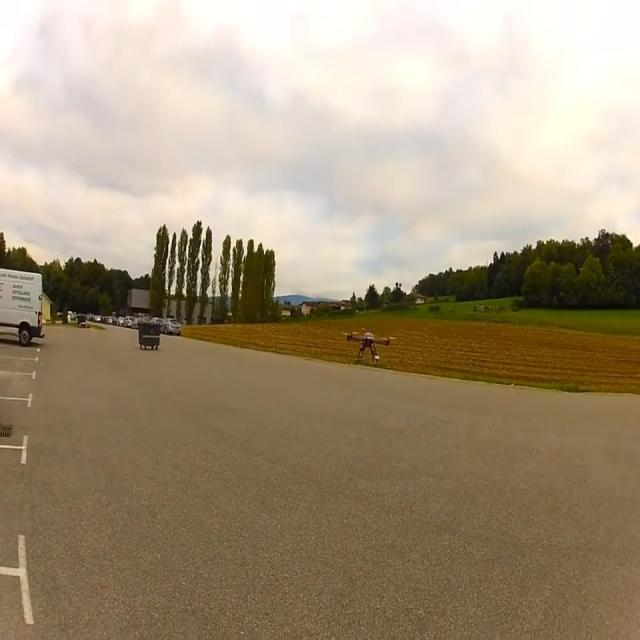drone: (341, 327, 396, 363)
